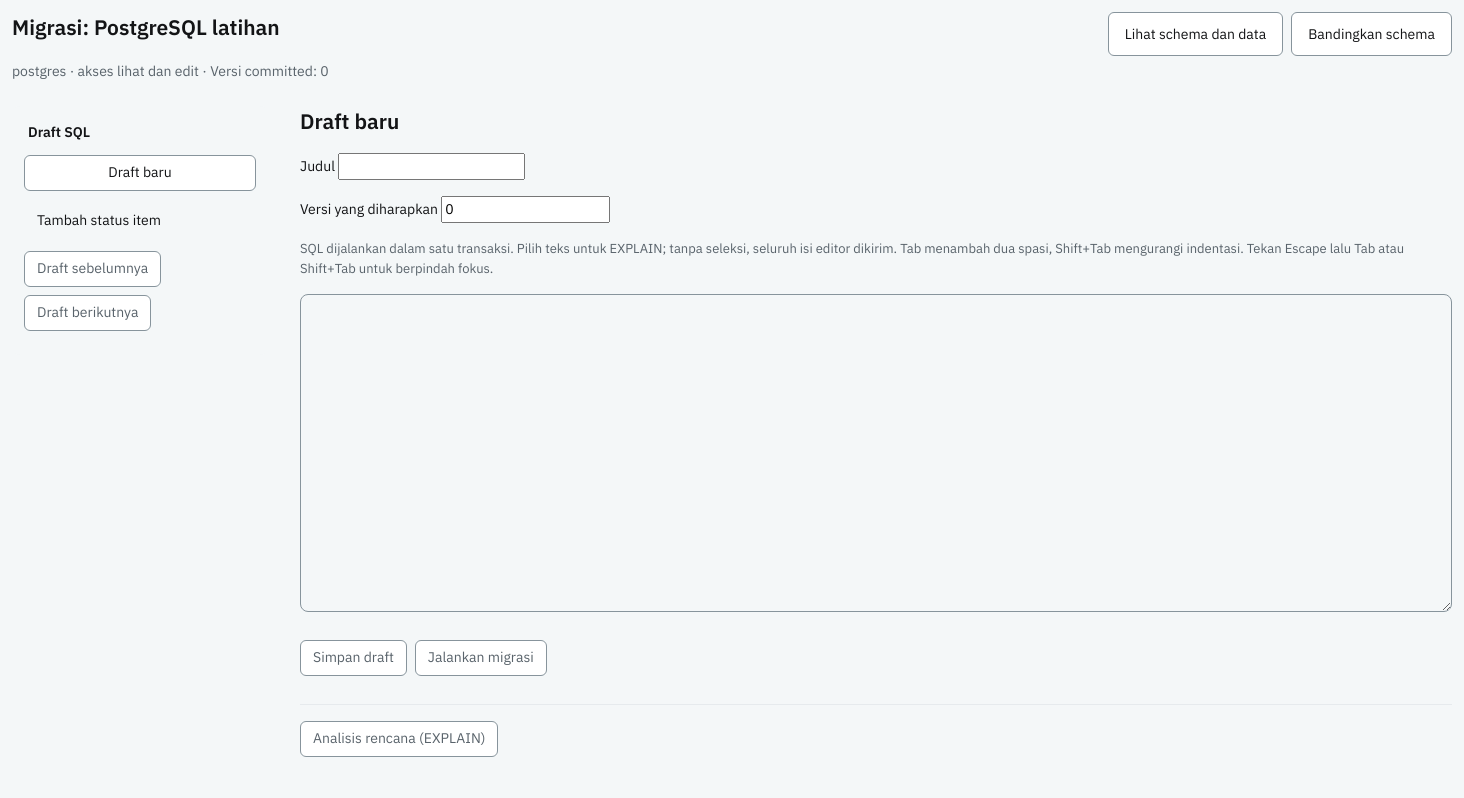
migration editor › keeps local SQL on a revision conflict
The image size is (1464, 798).
Click the button "Tambah status item".
click(140, 221)  # box [24, 203, 256, 239]
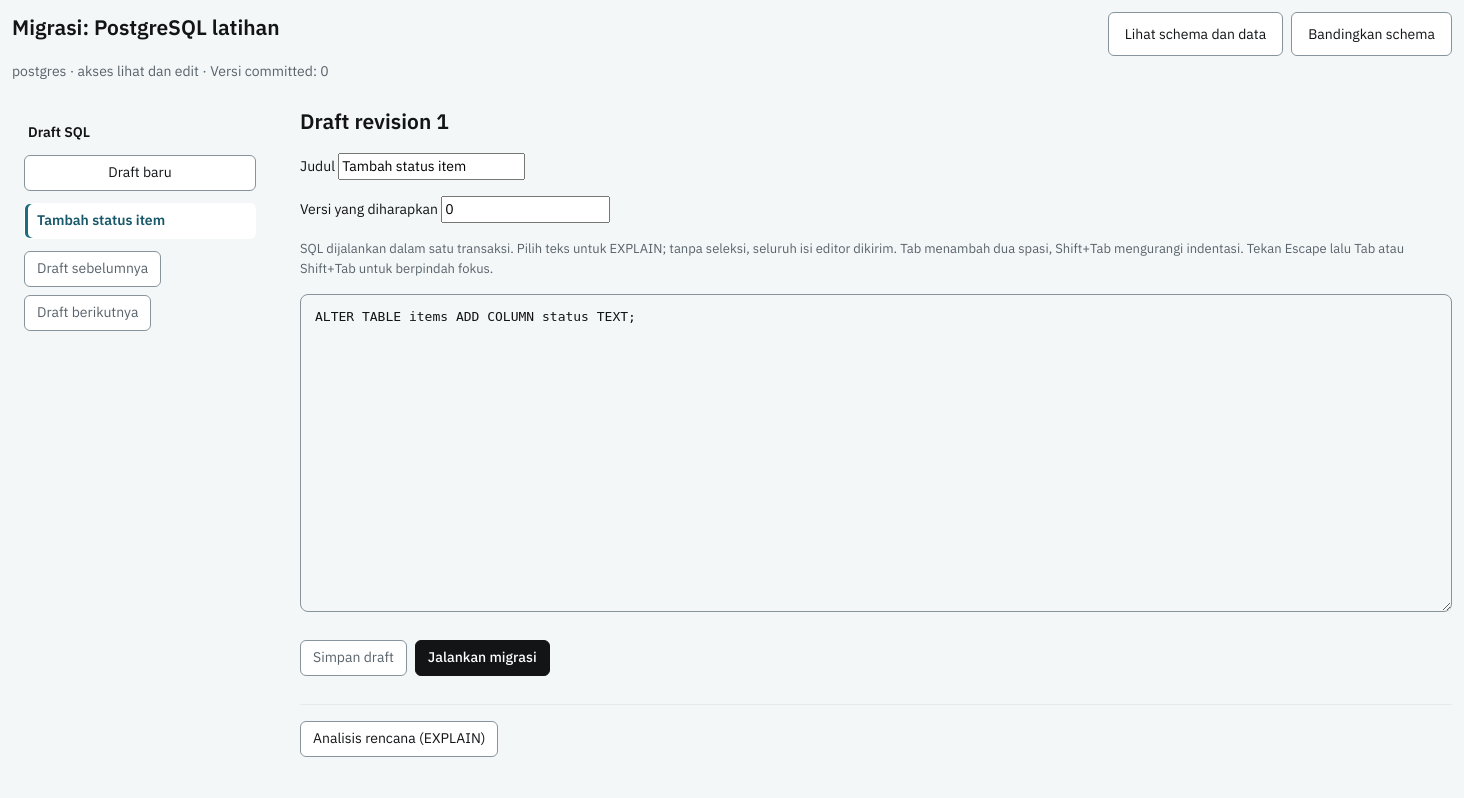
Expected: the heading "Draft revision 1" is shown, [300, 107, 449, 135]
Replace the text in the text box named "SQL migrasi" with "ALTER TABLE items ADD COLUMN still_local TEXT;" at (876, 453), box [300, 294, 1452, 612]
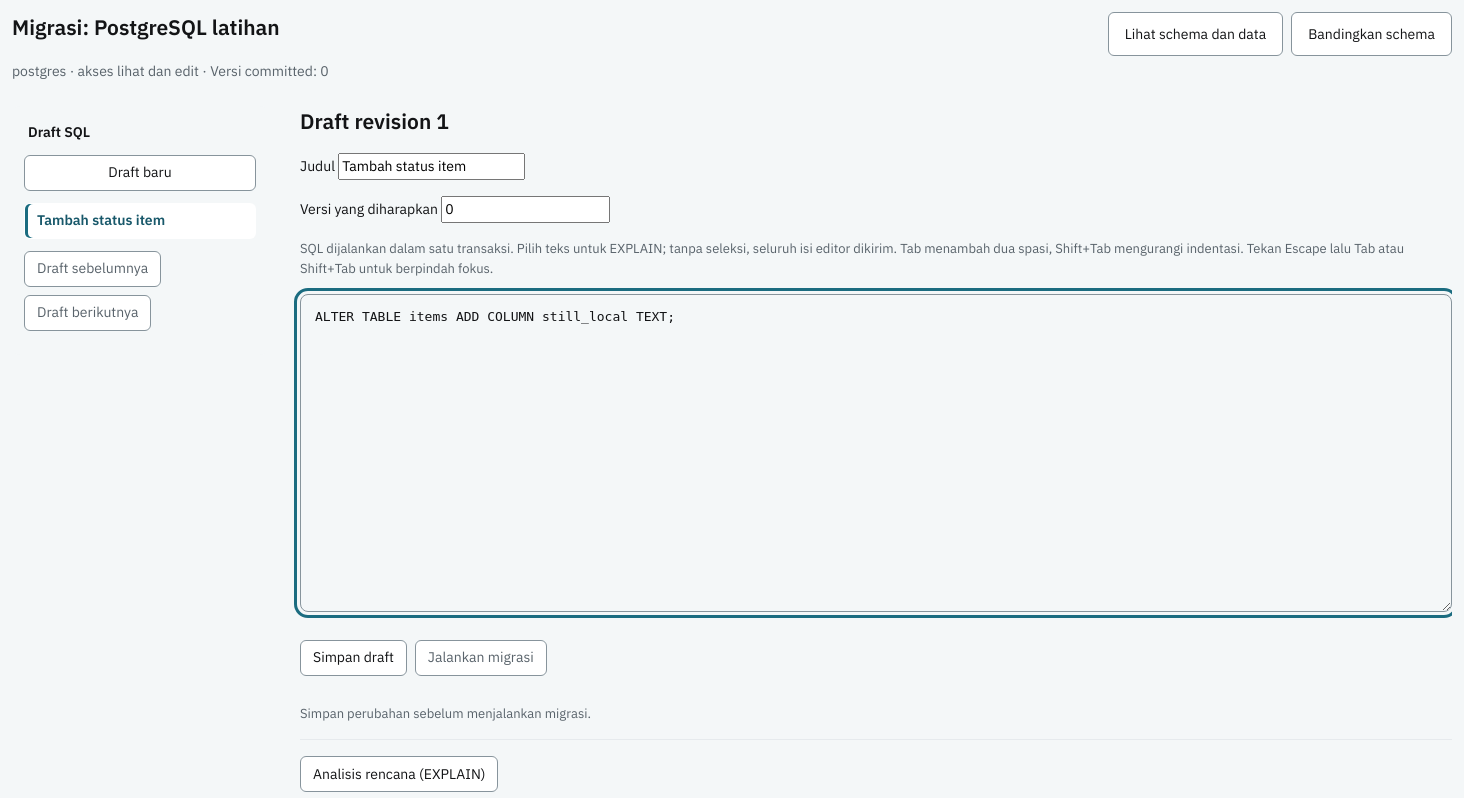
Click the button "Simpan draft".
click(353, 658)  # box [300, 640, 407, 676]
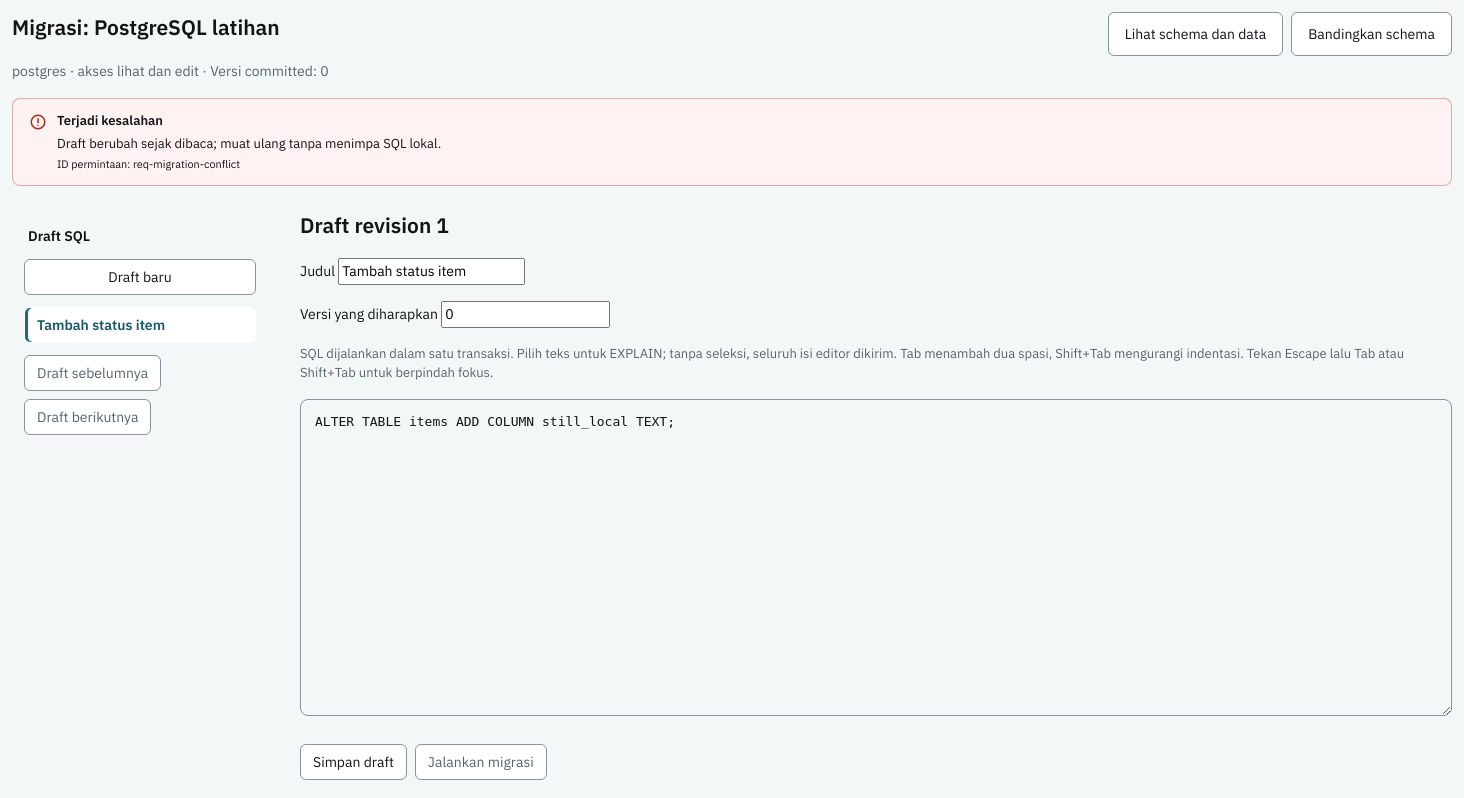
Expected: the message shows "Draft berubah sejak dibaca", [57, 135, 441, 152]
